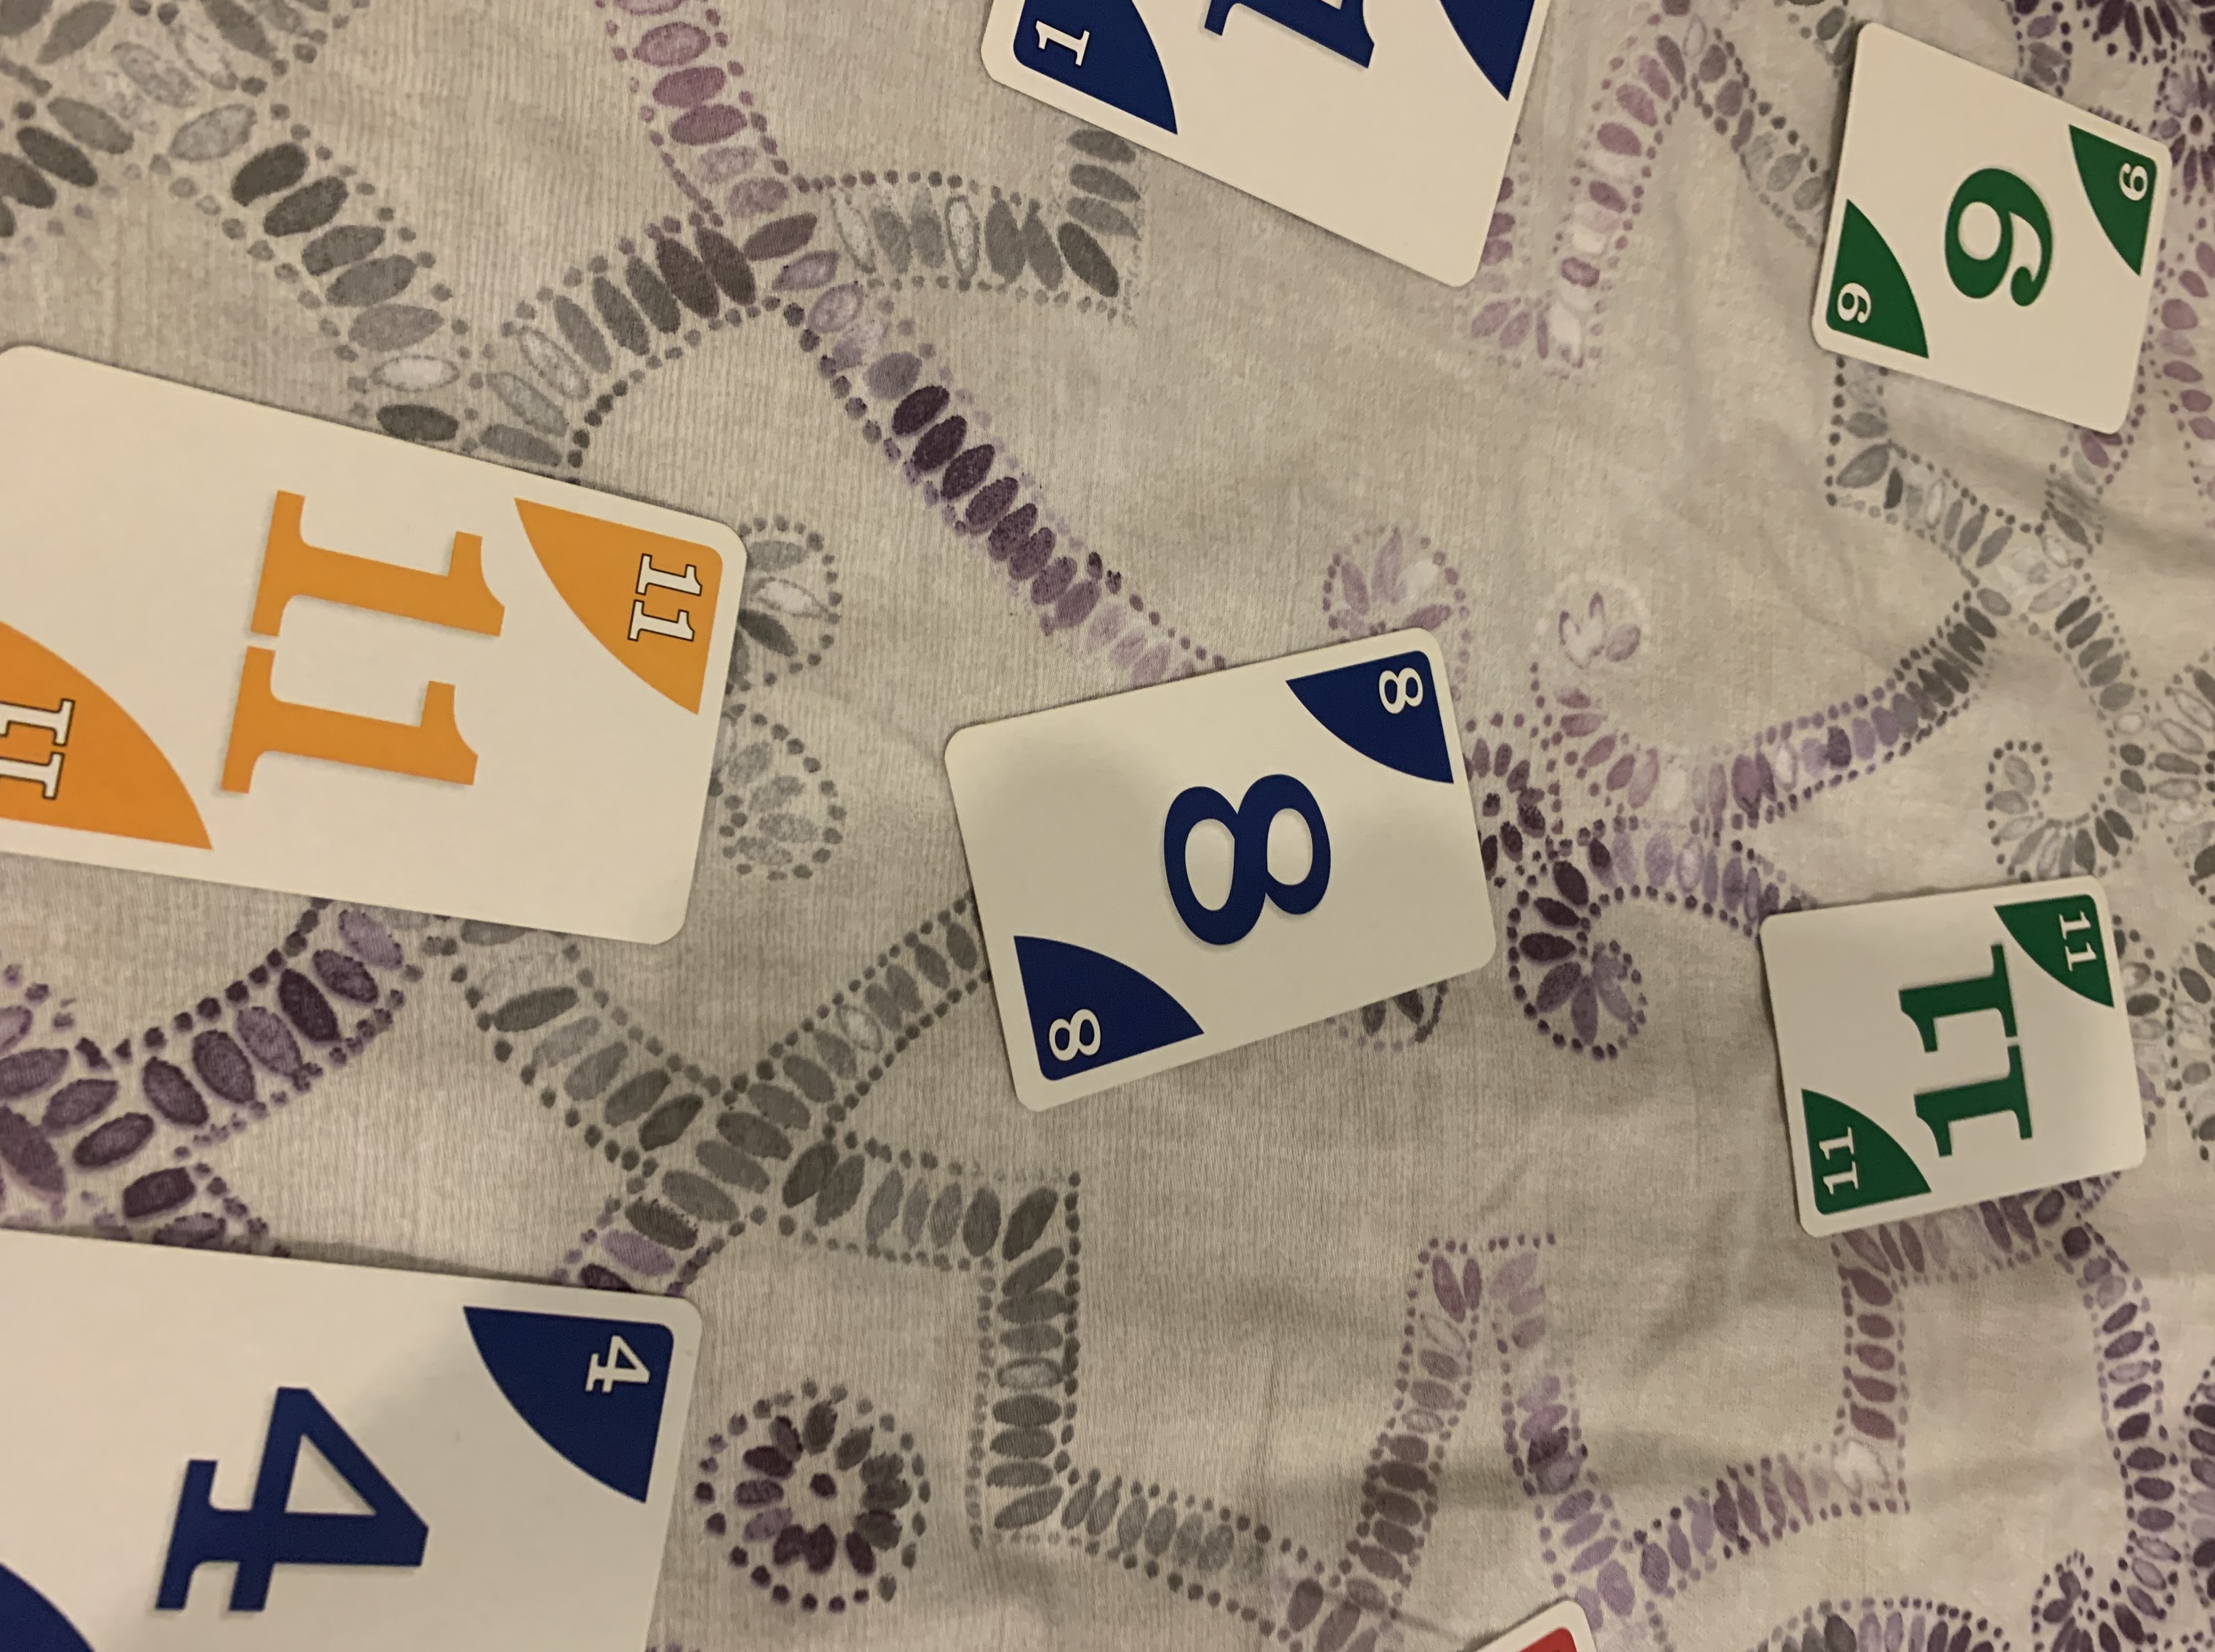eight: (948, 623, 1503, 1112)
eleven: (0, 338, 753, 956), (1755, 871, 2158, 1241)
nine: (1798, 19, 2179, 439)
